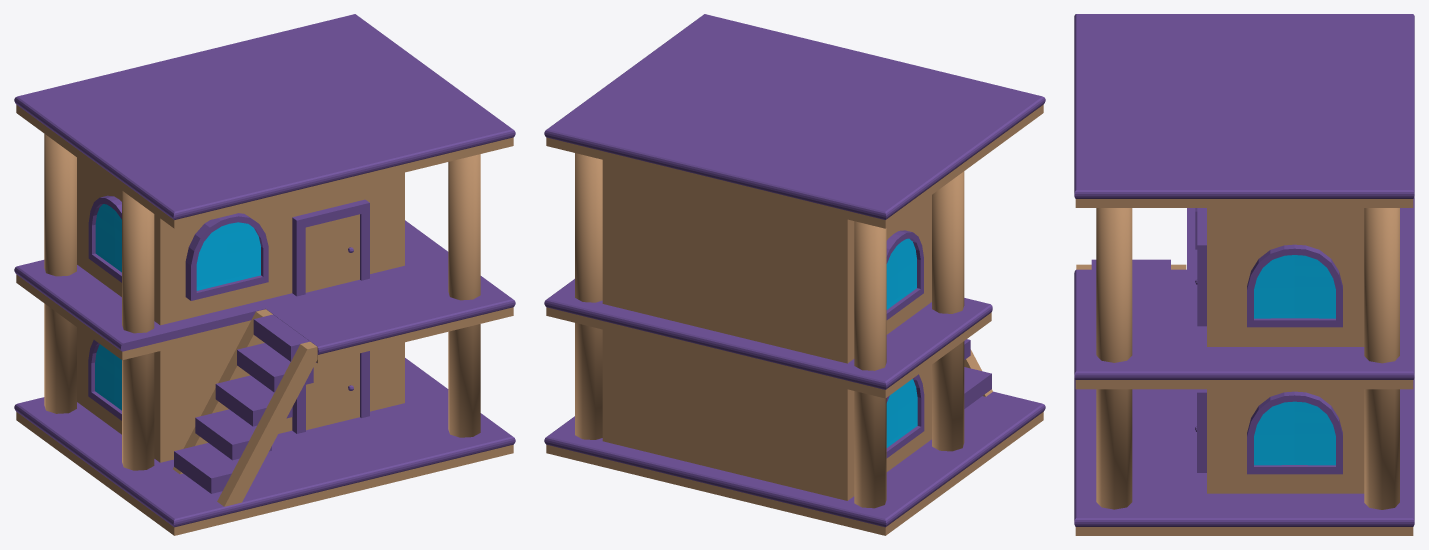
Rendered from CajaCasa 1.4.fbx.
The picture shows the model from 3 angles, left to right: view 1: azimuth 30°, elevation 25°; view 2: azimuth 150°, elevation 25°; view 3: azimuth 270°, elevation 25°; orthographic projection. The views are drawn at different scales.
Visible parts, largest first — view 1: Cube.024; view 2: Cube.024; view 3: Cube.024.
Boxes of the visible parts, x1=… form: Cube.024: x1=14, y1=14, x2=515, y2=535; Cube.024: x1=544, y1=14, x2=1045, y2=535; Cube.024: x1=1074, y1=14, x2=1414, y2=535.
Size of the model in its own units: 1561 by 1414 by 1261.
